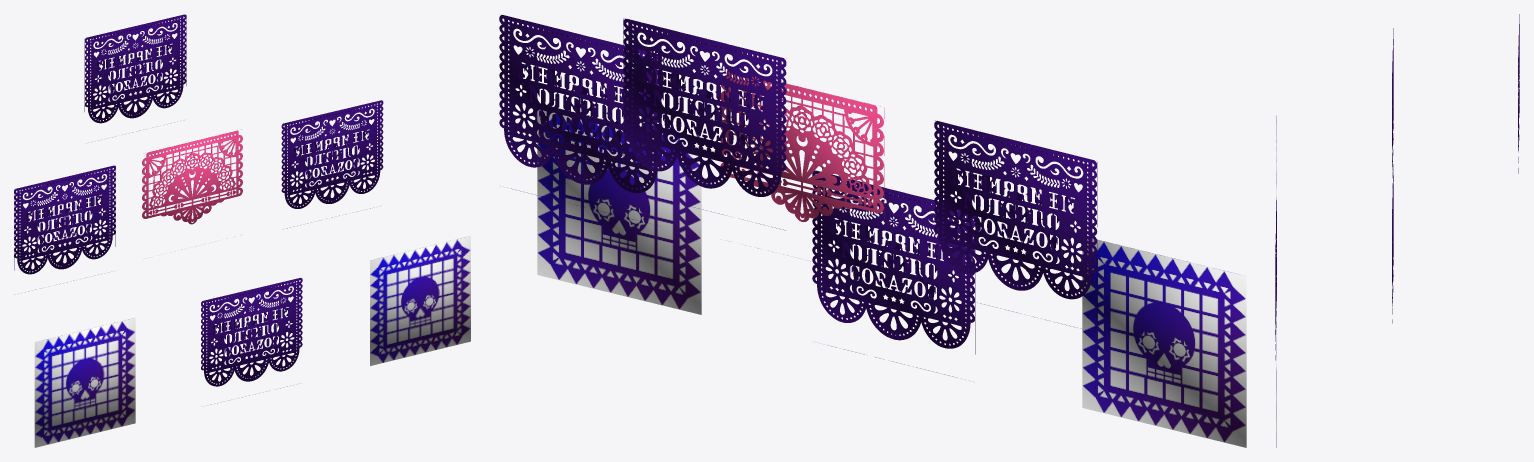
Rendered from papelPicadoAltar.obj.
3 views of the same model, side by side, from view 1: azimuth 30°, elevation 25°; view 2: azimuth 150°, elevation 25°; view 3: azimuth 270°, elevation 25° (orthographic). The views are drawn at different scales.
Parts seen in each view (by area): view 1: Box007, Box006, Box012, Box010, Box011, Box008, Box009; view 2: Box007, Box006, Box012, Box010, Box008, Box011, Box009; view 3: Box010.
Boxes of the visible parts, x1,y1,x2,y2 form: Box007: [34, 317, 135, 447]; Box006: [370, 236, 470, 365]; Box012: [84, 14, 186, 137]; Box010: [14, 165, 115, 291]; Box011: [281, 100, 383, 228]; Box008: [201, 278, 302, 404]; Box009: [142, 130, 242, 249]; Box007: [1082, 238, 1246, 447]; Box006: [537, 106, 701, 314]; Box012: [623, 18, 786, 230]; Box010: [934, 120, 1097, 331]; Box008: [812, 170, 975, 377]; Box011: [499, 15, 662, 219]; Box009: [720, 71, 884, 278]; Box010: [1392, 28, 1393, 186].
Size of the model in its own units: 6.48 by 4.03 by 3.01.
5 materials, 5 textured.
